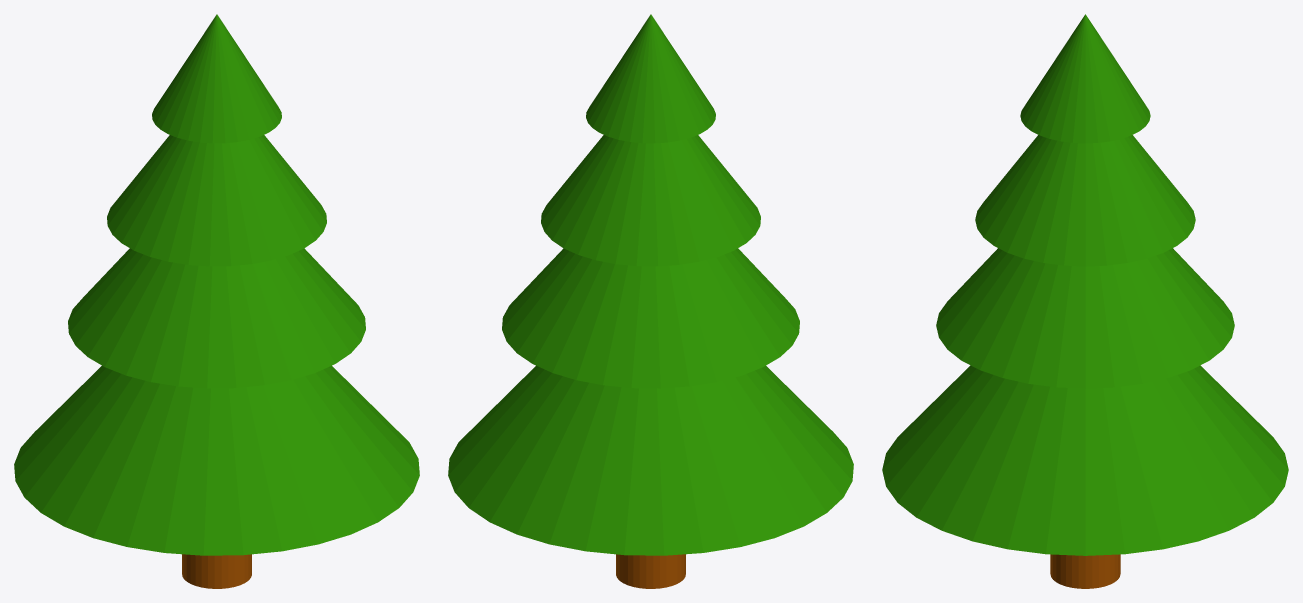
File: sapin.fbx
3 renders of one model, left to right at view 1: azimuth 30°, elevation 25°; view 2: azimuth 150°, elevation 25°; view 3: azimuth 270°, elevation 25°, orthographic.
Parts seen in each view (by area): view 1: Cone_003, Cone, Cone_002, Cone_001, Cylinder; view 2: Cone_003, Cone, Cone_002, Cone_001, Cylinder; view 3: Cone_003, Cone, Cone_002, Cone_001, Cylinder.
Boxes of the visible parts, x1,y1,x2,y2 form: Cone_003: [14, 365, 419, 555]; Cone: [68, 248, 365, 388]; Cone_002: [107, 135, 326, 266]; Cone_001: [152, 14, 281, 143]; Cylinder: [182, 554, 251, 588]; Cone_003: [448, 365, 853, 555]; Cone: [502, 248, 799, 388]; Cone_002: [541, 135, 760, 266]; Cone_001: [586, 14, 715, 143]; Cylinder: [616, 554, 685, 588]; Cone_003: [882, 365, 1288, 555]; Cone: [936, 248, 1234, 388]; Cone_002: [975, 135, 1195, 266]; Cone_001: [1020, 14, 1150, 143]; Cylinder: [1050, 554, 1120, 588].
Bounding box in the file's own units: 4.36 × 6.63 × 4.36.
